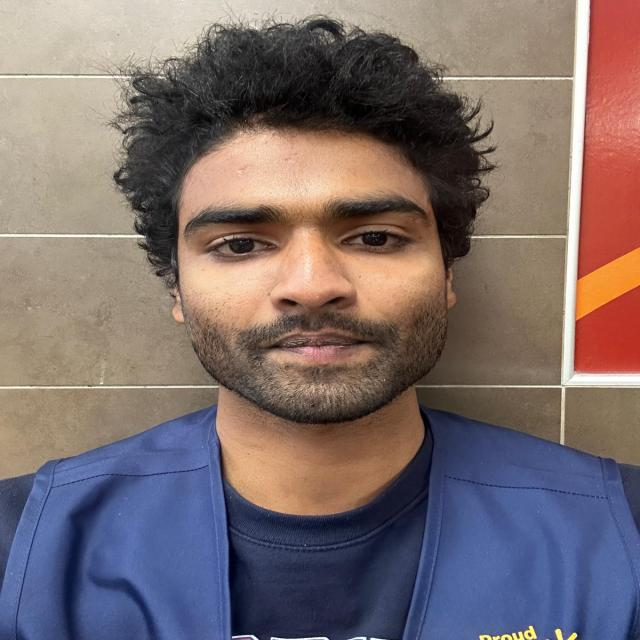nocap: (85, 17, 531, 212)
